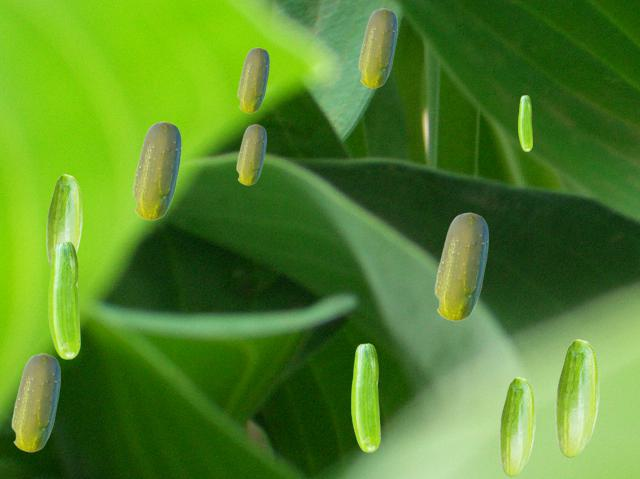cucumber: (434, 212, 487, 320), (555, 339, 598, 456), (11, 353, 59, 451), (132, 121, 180, 219), (48, 241, 79, 358), (499, 377, 534, 475), (46, 174, 81, 266), (351, 343, 379, 451), (358, 8, 396, 87), (237, 47, 268, 112), (236, 124, 265, 184), (518, 95, 531, 150)
